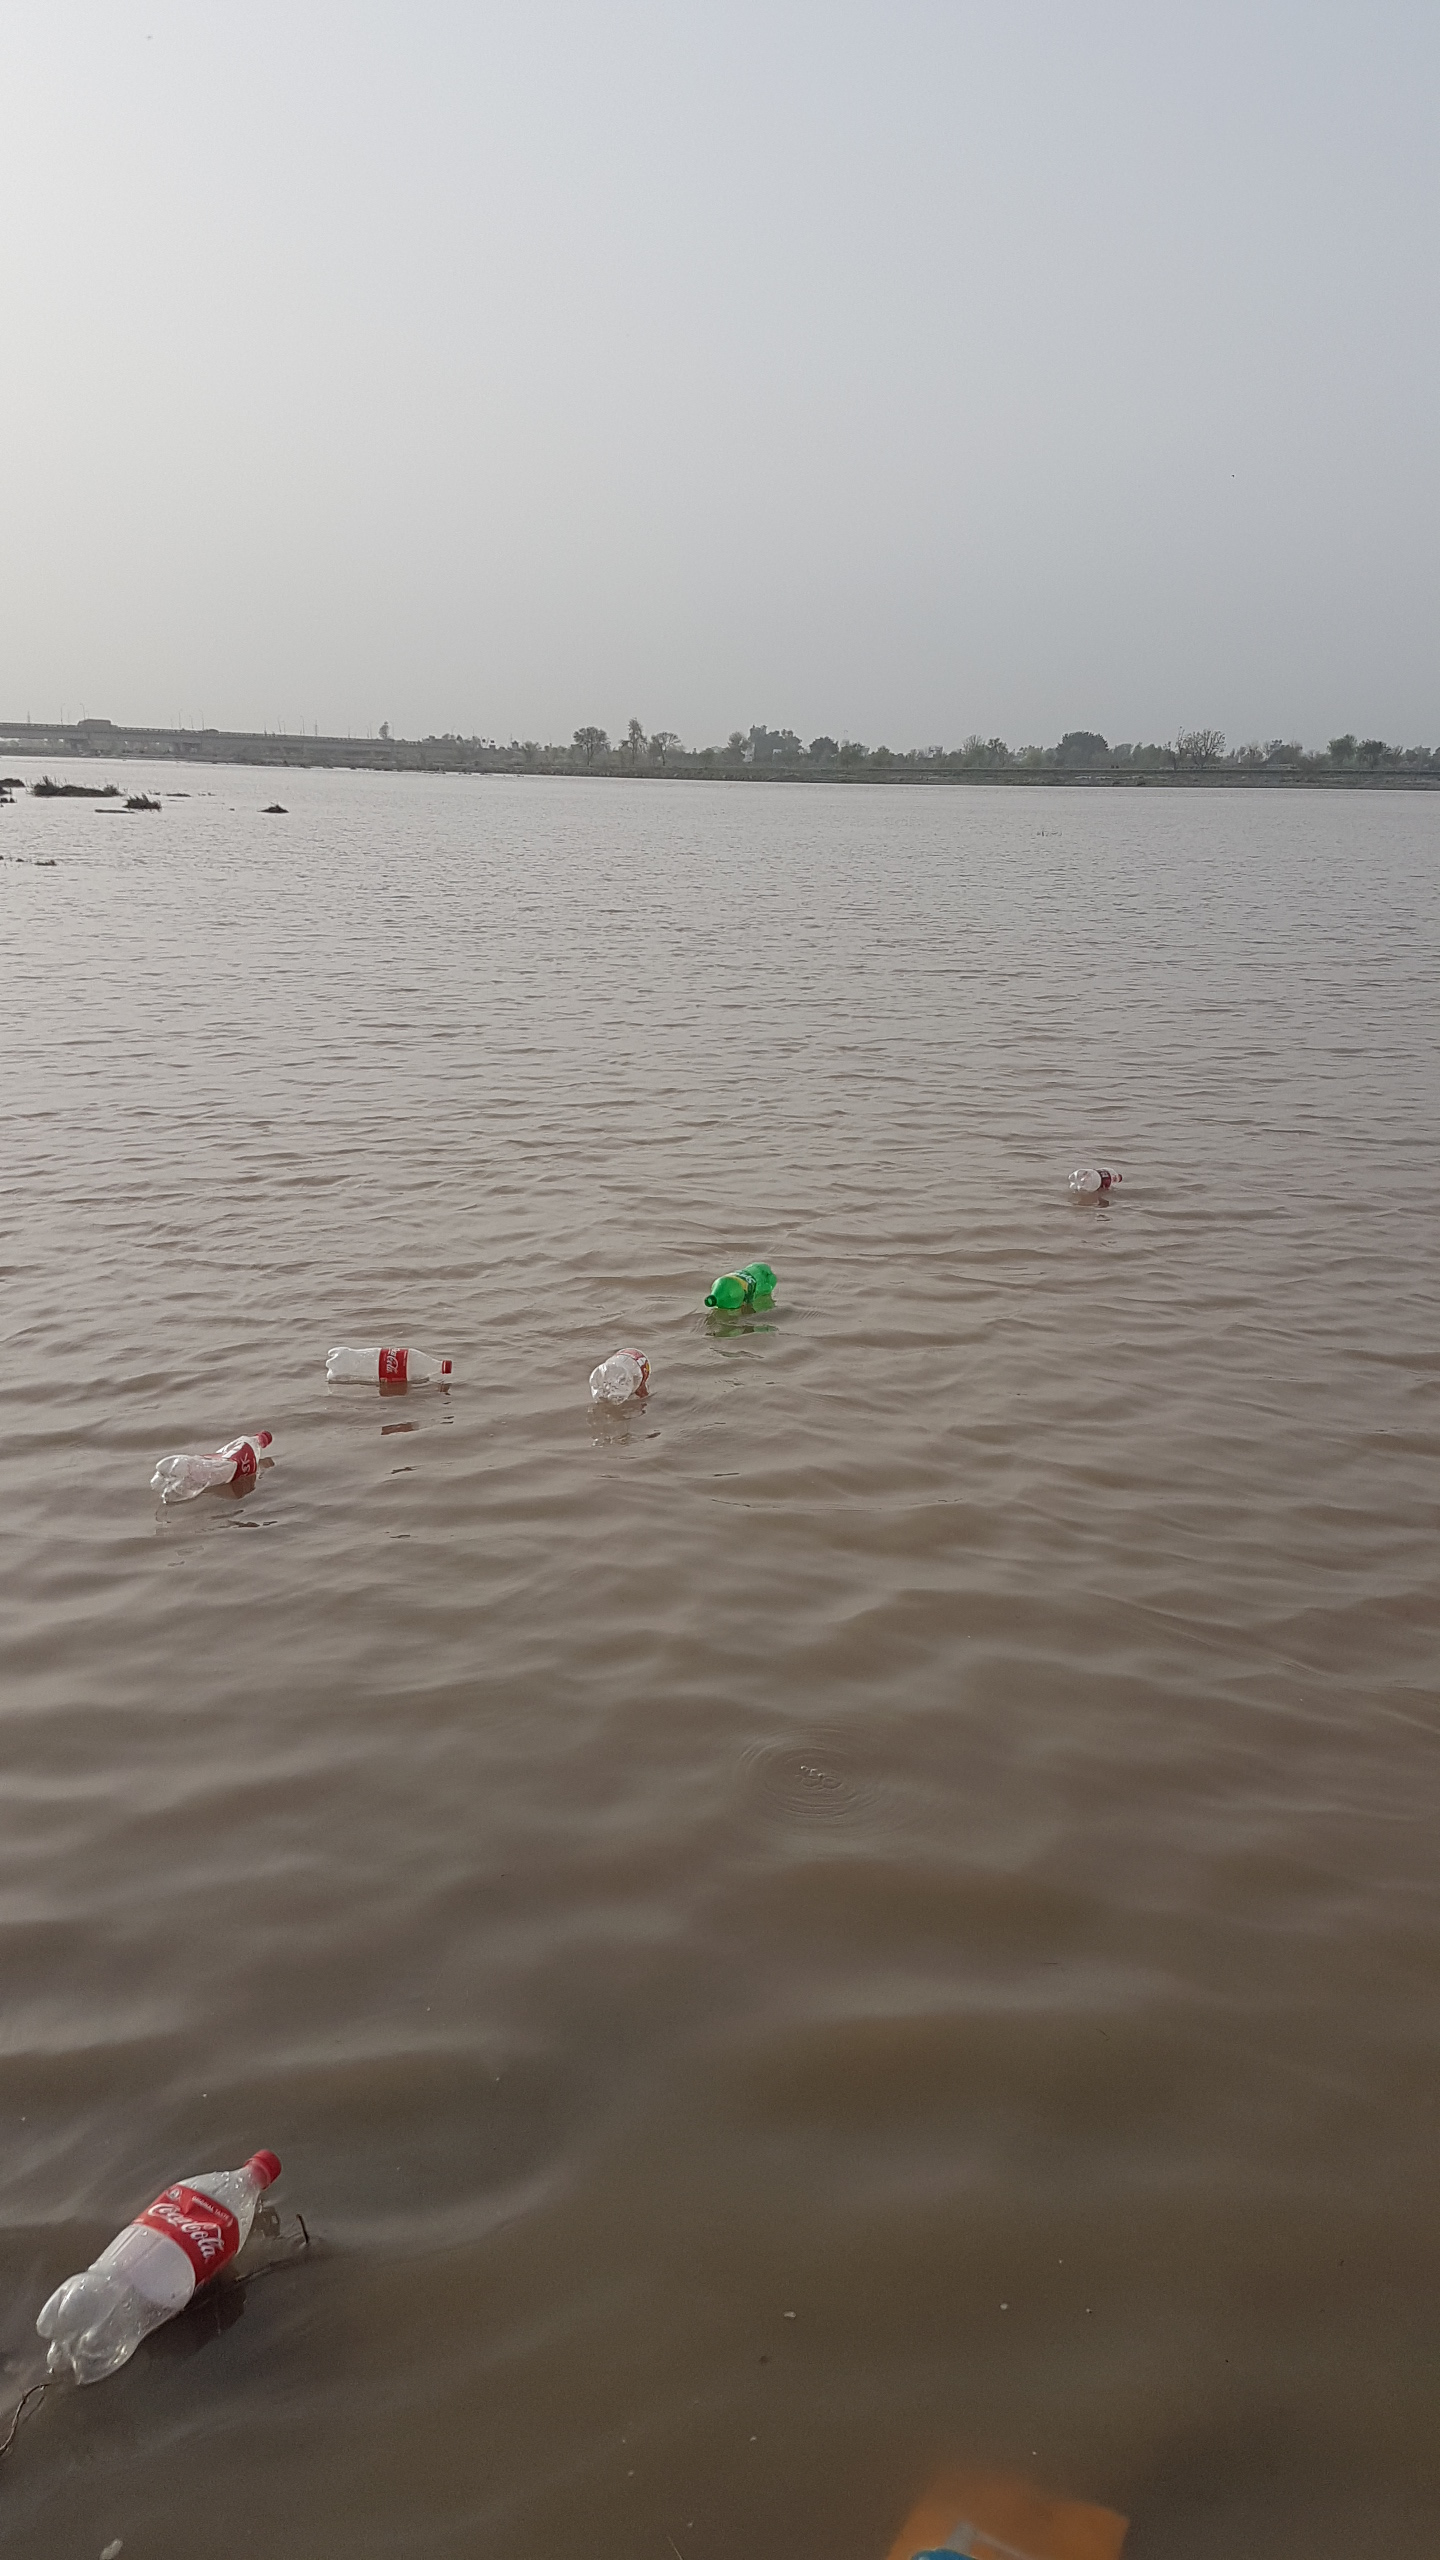Plastic Bottle: (35, 2149, 281, 2386), (151, 1429, 273, 1503), (325, 1347, 454, 1384), (587, 1349, 651, 1403), (705, 1261, 777, 1308), (1067, 1167, 1122, 1192)
